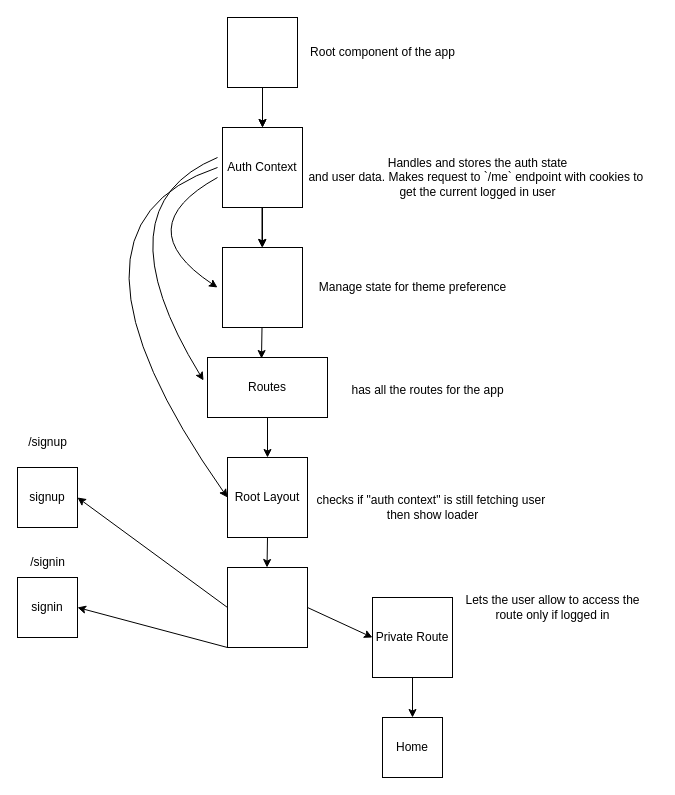
The diagram is 675 pixels wide and 795 high, and some of its shapes have lost their labels. The centre of each missing label's shape, as x and y in pixels:
"App Component" belongs at [262,52].
"Page Layout" belongs at [267,607].
"Theme Context" belongs at [262,287].
